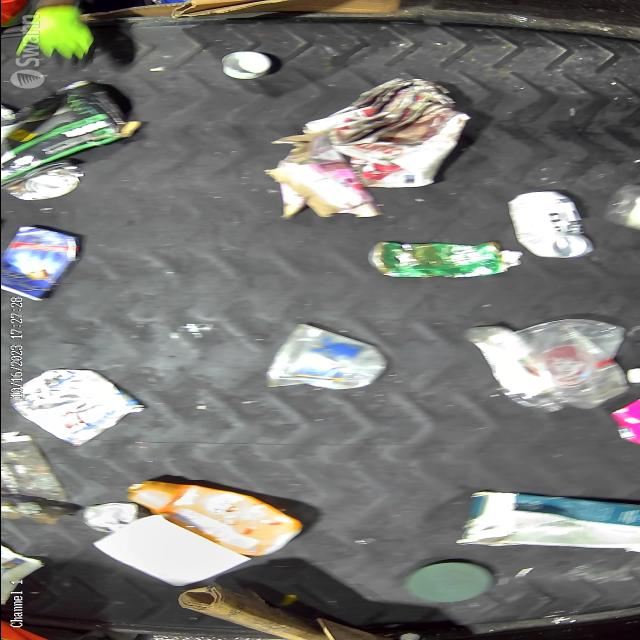can: (255, 325, 406, 388), (359, 241, 526, 278), (510, 188, 594, 260)
non_white_jug: (134, 481, 298, 554)
